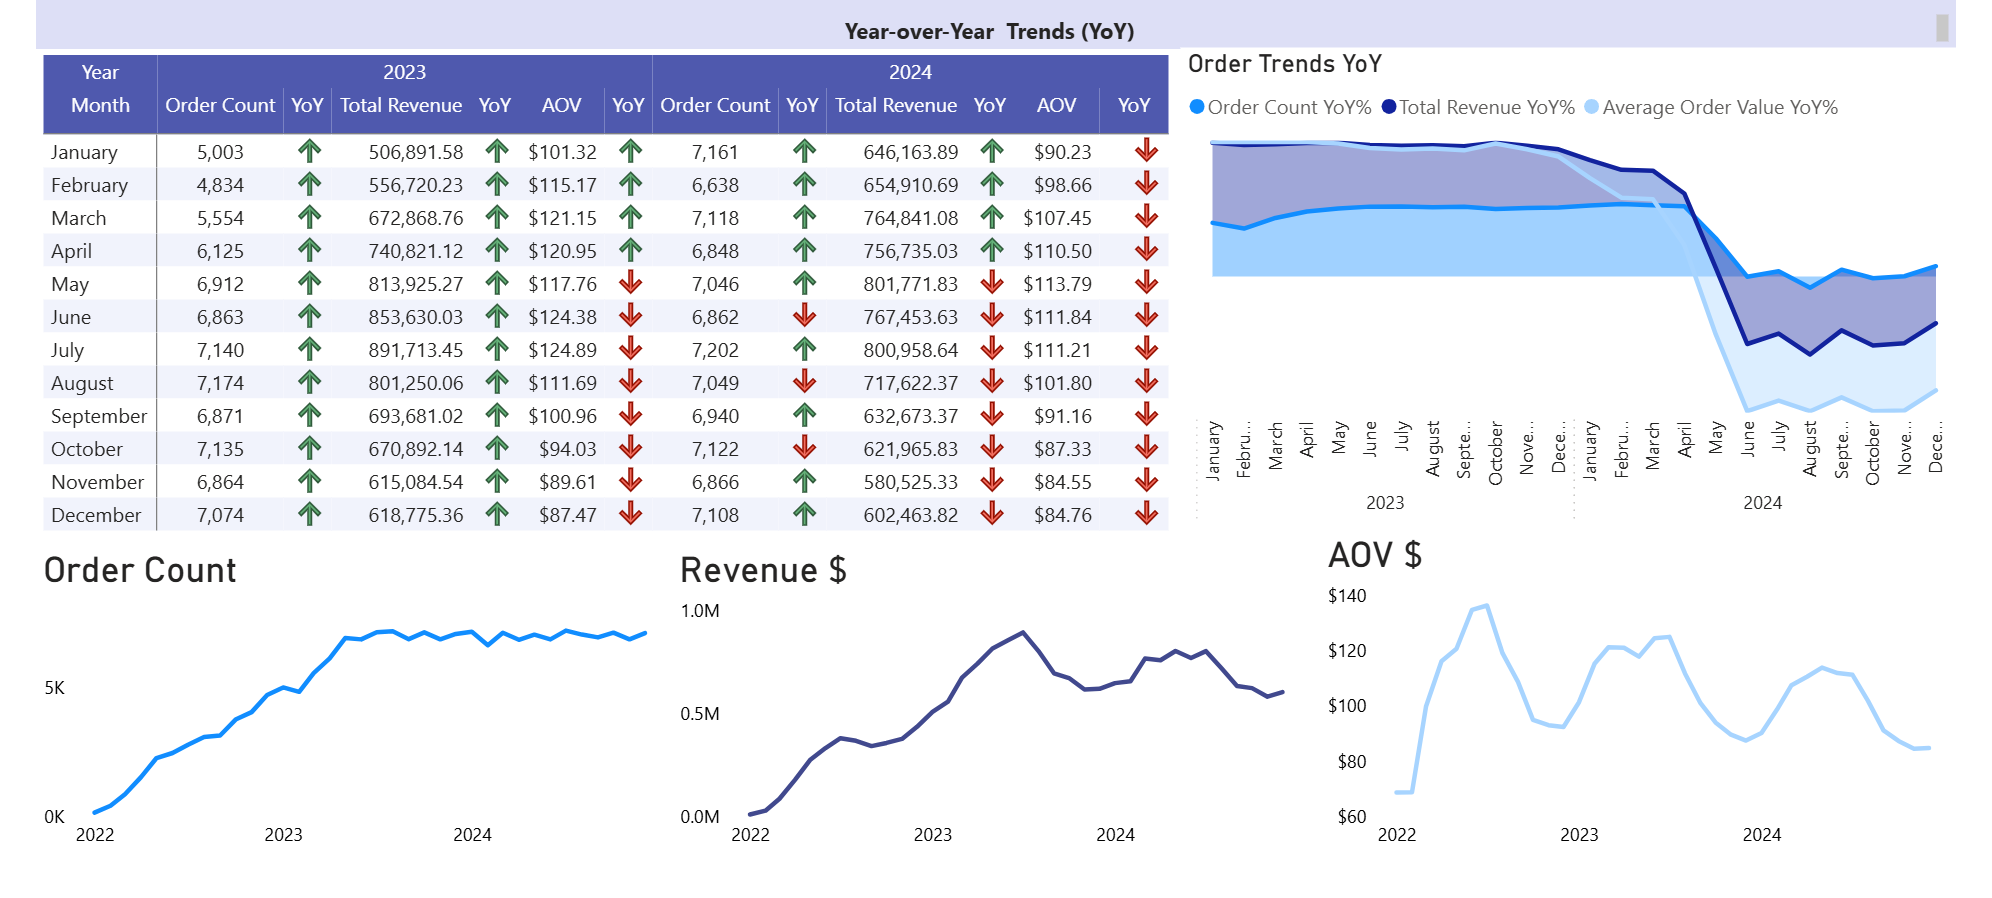

The dashboard page shown, as its layout file describes it:
{"tool":"powerbi","page":{"name":"Sale Trends Insights","canvas":[1280,720],"ordinal":1},"visuals":[{"type":"shape","box":[0,0,1280,150],"z":0},{"type":"image","box":[18.6,0,294.3,150],"z":1000},{"type":"lineChart","title":"Order Count","fields":{"Category":["cleaned_fmcg.date.Variation.Date Hierarchy.Year","cleaned_fmcg.date.Variation.Date Hierarchy.Month"],"Y":["cleaned_fmcg.Order Count"]},"box":[0,511.1,424.3,209.1],"z":2000},{"type":"lineChart","title":"Revenue $","fields":{"Category":["cleaned_fmcg.date.Variation.Date Hierarchy.Year","cleaned_fmcg.date.Variation.Date Hierarchy.Month"],"Y":["cleaned_fmcg.Revenue"]},"box":[424.3,511.1,424.3,209.1],"z":3000},{"type":"lineChart","title":"AOV $","fields":{"Category":["cleaned_fmcg.date.Variation.Date Hierarchy.Year","cleaned_fmcg.date.Variation.Date Hierarchy.Month"],"Y":["cleaned_fmcg.Average Order Value"]},"box":[856,501.4,424.3,218.9],"z":4000},{"type":"pivotTable","fields":{"Rows":["cleaned_fmcg.date.Variation.Date Hierarchy.Month"],"Columns":["cleaned_fmcg.date.Variation.Date Hierarchy.Year"],"Values":["cleaned_fmcg.Order Count","cleaned_fmcg.Order Count YoY%","cleaned_fmcg.Total Revenue","cleaned_fmcg.Total Revenue YoY%","cleaned_fmcg.Average Order Value","cleaned_fmcg.Average Order Value YoY%"]},"box":[0,177.1,762.9,334.3],"z":5000},{"type":"textbox","box":[0,150,1280,27.5],"z":6000},{"type":"hundredPercentStackedAreaChart","title":"Order Trends YoY","fields":{"Y":["cleaned_fmcg.Order Count YoY%","cleaned_fmcg.Total Revenue YoY%","cleaned_fmcg.Average Order Value YoY%"],"Category":["cleaned_fmcg.date.Variation.Date Hierarchy.Year","cleaned_fmcg.date.Variation.Date Hierarchy.Month"]},"box":[763.3,176.7,516.7,325],"z":7000},{"type":"slicer","fields":{"Values":["cleaned_fmcg.region"]},"box":[325.7,35.7,167.1,80],"z":8000},{"type":"slicer","fields":{"Values":["cleaned_fmcg.promotion_flag"]},"box":[492.9,35.7,167.1,80],"z":9000},{"type":"slicer","fields":{"Values":["cleaned_fmcg.channel"]},"box":[651.4,35.7,167.1,80],"z":10000},{"type":"slicer","fields":{"Values":["cleaned_fmcg.sku"]},"box":[985.7,35.7,167.1,80],"z":11000},{"type":"slicer","fields":{"Values":["cleaned_fmcg.date.Variation.Date Hierarchy.Year"]},"box":[1152.9,35.7,127.1,80],"z":12000},{"type":"slicer","fields":{"Values":["cleaned_fmcg.category"]},"box":[818.6,35.7,167.1,80],"z":13000}]}

Visuals, with their boxes on the page's 1280x720 design canvas (x1, y1, x2, y2). These are canvas units, not pixel positions in the 1992x898 screenshot, which may show the page scaled, cropped or inside an application window:
shape: <region>0, 0, 1280, 150</region>
image: <region>19, 0, 313, 150</region>
"Order Count" lineChart: <region>0, 511, 424, 720</region>
"Revenue $" lineChart: <region>424, 511, 849, 720</region>
"AOV $" lineChart: <region>856, 501, 1280, 720</region>
pivotTable - cleaned_fmcg.date.Variation.Date Hierarchy.Month x cleaned_fmcg.date.Variation.Date Hierarchy.Year: <region>0, 177, 763, 511</region>
textbox: <region>0, 150, 1280, 178</region>
"Order Trends YoY" hundredPercentStackedAreaChart: <region>763, 177, 1280, 502</region>
slicer - cleaned_fmcg.region: <region>326, 36, 493, 116</region>
slicer - cleaned_fmcg.promotion_flag: <region>493, 36, 660, 116</region>
slicer - cleaned_fmcg.channel: <region>651, 36, 818, 116</region>
slicer - cleaned_fmcg.sku: <region>986, 36, 1153, 116</region>
slicer - cleaned_fmcg.date.Variation.Date Hierarchy.Year: <region>1153, 36, 1280, 116</region>
slicer - cleaned_fmcg.category: <region>819, 36, 986, 116</region>
